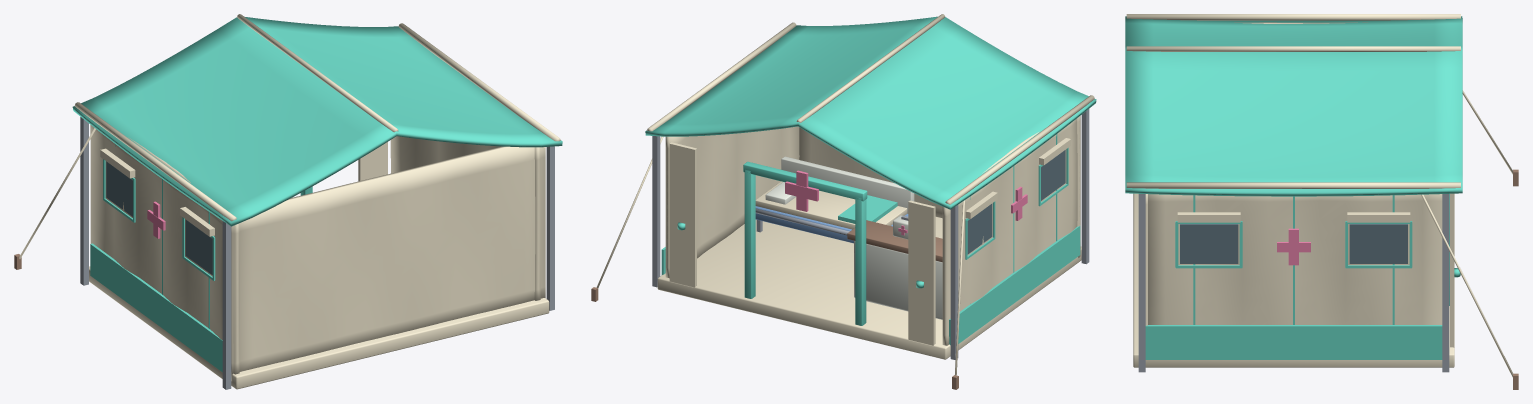
The model's file is FestivalMedical.fbx.
3 views of the same model, side by side, from view 1: azimuth 30°, elevation 25°; view 2: azimuth 150°, elevation 25°; view 3: azimuth 270°, elevation 25° (orthographic). The views are drawn at different scales.
Parts seen in each view (by area): view 1: FestivalMedical CanvasCream__CanvasCream, FestivalMedical CanvasMint__CanvasMint, FestivalMedical Cream__Cream, FestivalMedical Metal__Metal, FestivalMedical CanvasDark__CanvasDark; view 2: FestivalMedical CanvasMint__CanvasMint, FestivalMedical CanvasCream__CanvasCream, FestivalMedical Cream__Cream, FestivalMedical White__White, FestivalMedical Metal__Metal, FestivalMedical Mint__Mint, FestivalMedical CanvasDark__CanvasDark, FestivalMedical Wood__Wood, FestivalMedical Rose__Rose, FestivalMedical Blue__Blue; view 3: FestivalMedical CanvasMint__CanvasMint, FestivalMedical CanvasCream__CanvasCream, FestivalMedical CanvasDark__CanvasDark, FestivalMedical Cream__Cream, FestivalMedical Metal__Metal, FestivalMedical Rose__Rose.
Boxes of the visible parts, x1,y1,x2,y2 form: FestivalMedical CanvasCream__CanvasCream: (19,14,560,381); FestivalMedical CanvasMint__CanvasMint: (72,16,562,372); FestivalMedical Cream__Cream: (89,266,549,389); FestivalMedical Metal__Metal: (80,113,554,389); FestivalMedical CanvasDark__CanvasDark: (106,161,212,274); FestivalMedical CanvasMint__CanvasMint: (645,16,1096,345); FestivalMedical CanvasCream__CanvasCream: (596,14,1094,375); FestivalMedical Cream__Cream: (657,217,1081,359); FestivalMedical White__White: (765,156,942,319); FestivalMedical Metal__Metal: (652,105,1089,359); FestivalMedical Mint__Mint: (677,161,923,325); FestivalMedical CanvasDark__CanvasDark: (967,150,1065,254); FestivalMedical Wood__Wood: (591,220,958,389); FestivalMedical Rose__Rose: (785,170,1027,235); FestivalMedical Blue__Blue: (755,206,908,243); FestivalMedical CanvasMint__CanvasMint: (1125,16,1462,359); FestivalMedical CanvasCream__CanvasCream: (1126,14,1513,377); FestivalMedical CanvasDark__CanvasDark: (1180,224,1407,263); FestivalMedical Cream__Cream: (1133,193,1454,367); FestivalMedical Metal__Metal: (1138,188,1449,372); FestivalMedical Rose__Rose: (1277,228,1310,265).
Size of the model in its own units: 759 by 413 by 612.
